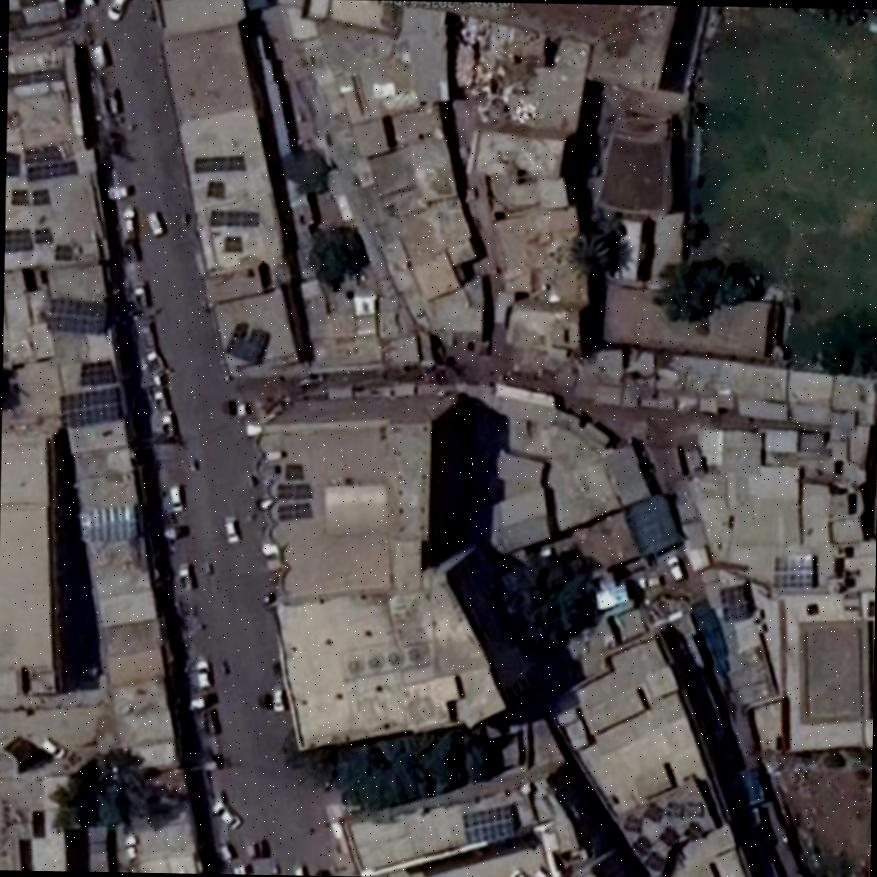Solarpanel: (58, 387, 120, 423), (46, 299, 105, 334), (463, 809, 512, 842), (24, 147, 72, 178), (774, 552, 814, 588), (209, 209, 256, 227), (78, 361, 113, 384), (192, 156, 244, 171), (721, 587, 744, 620), (278, 502, 310, 520), (642, 804, 669, 824), (278, 483, 310, 499), (4, 228, 28, 249), (683, 820, 702, 842), (643, 851, 663, 871), (657, 826, 677, 846), (30, 187, 49, 204), (633, 838, 650, 856), (282, 464, 300, 480), (53, 245, 71, 258), (35, 227, 48, 243)
